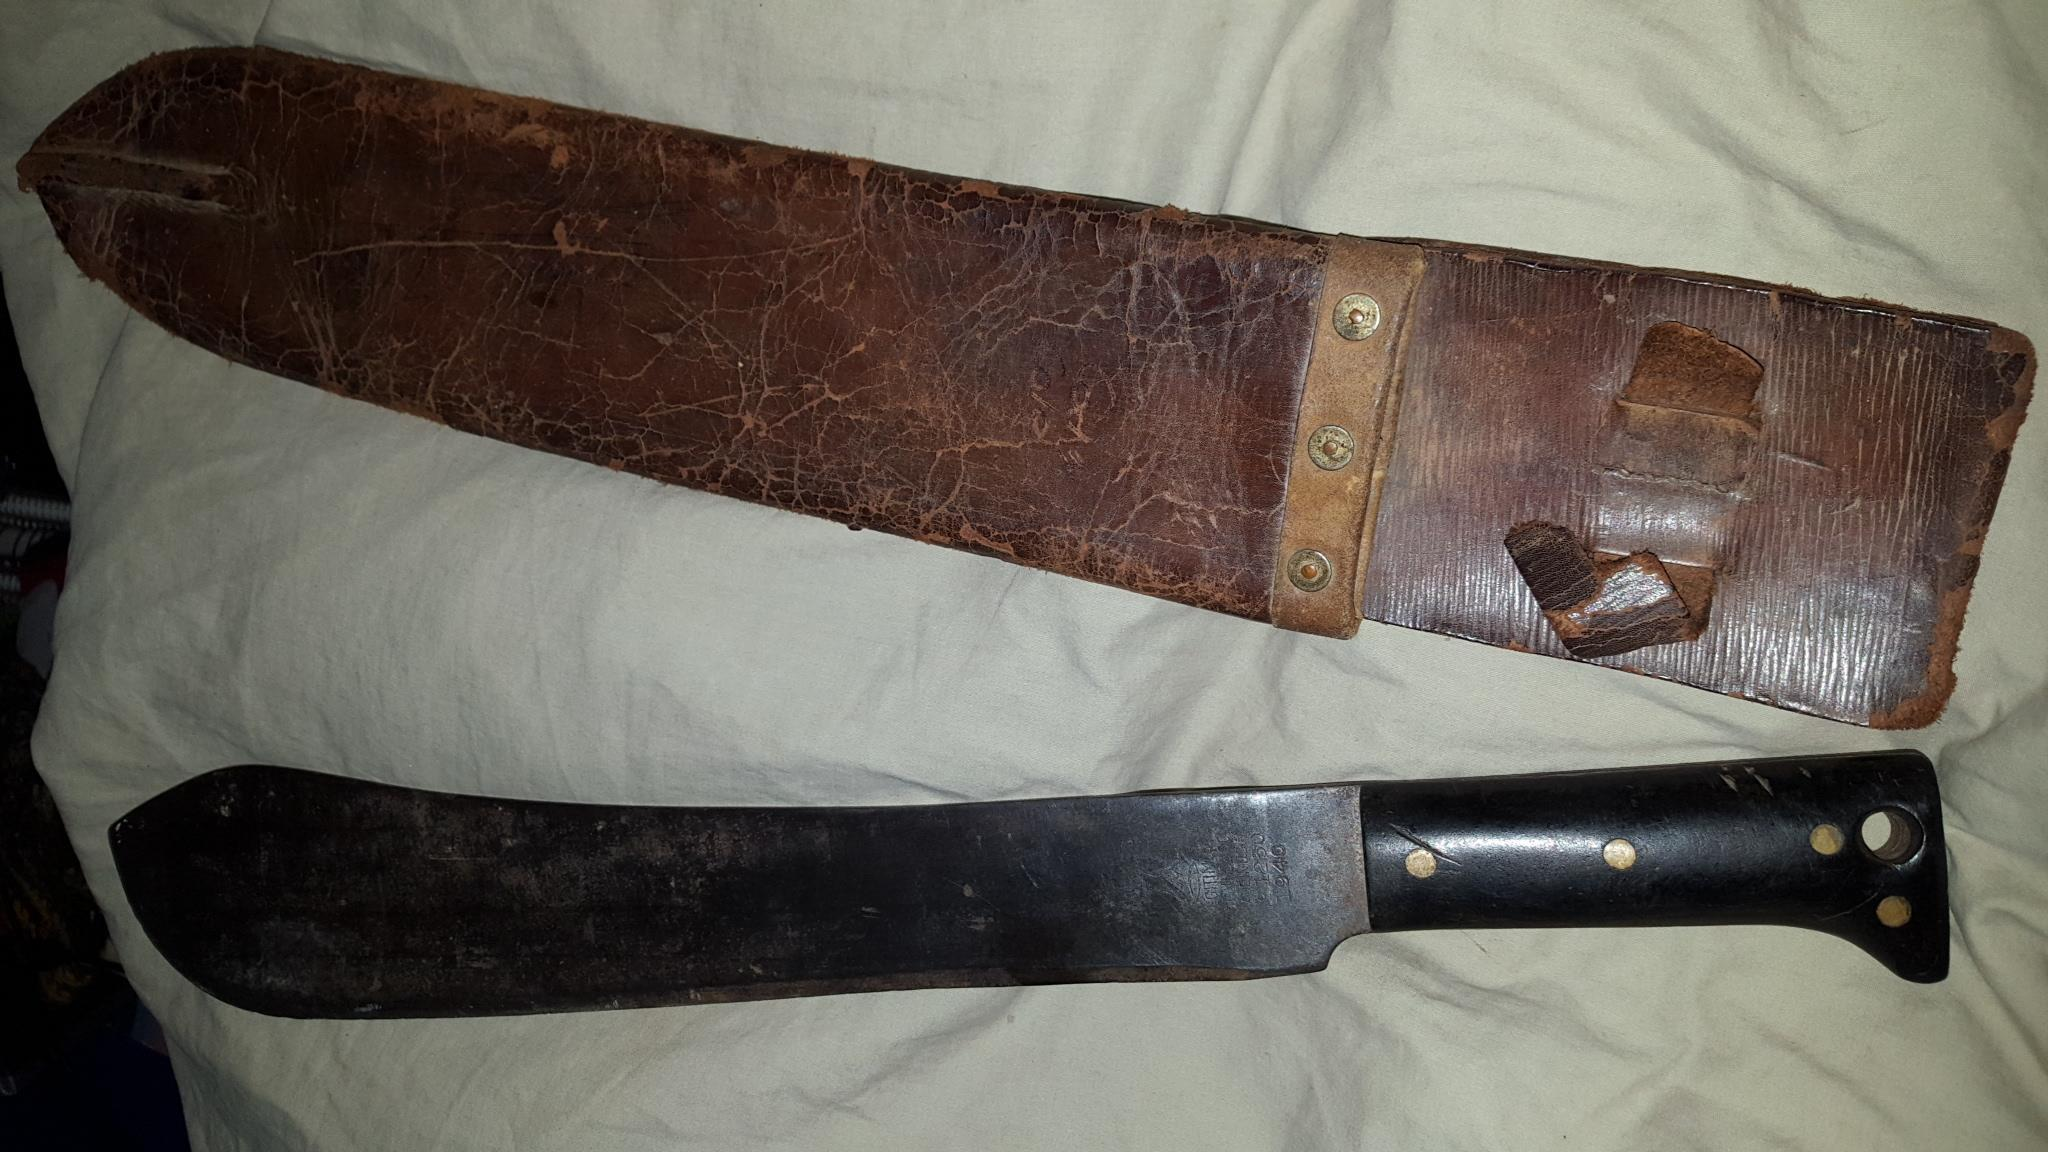facao: (945, 13, 2004, 1099), (163, 48, 831, 1115)
